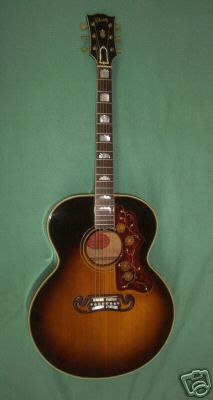guitar: (26, 12, 175, 381)
